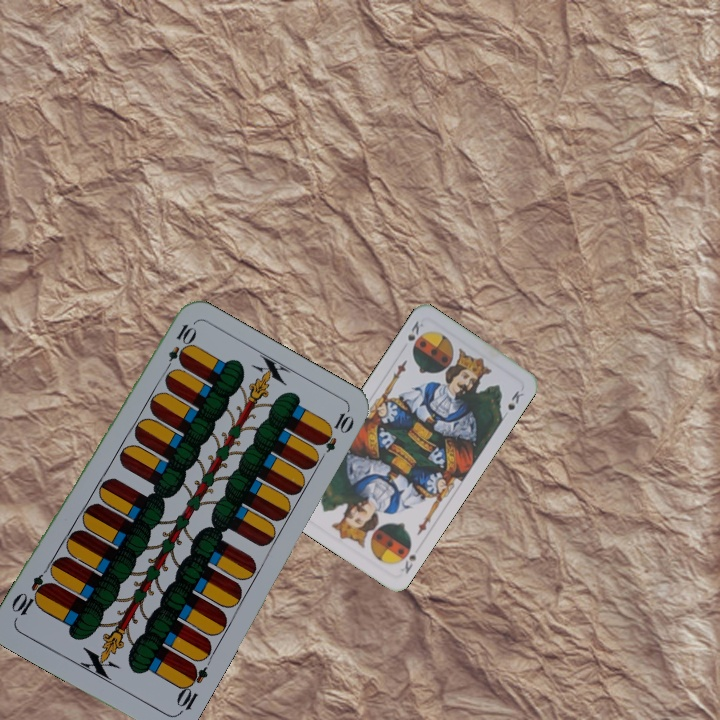E10: (172, 660, 211, 717), (160, 320, 197, 376)
SK: (396, 550, 419, 576), (403, 317, 422, 344)
